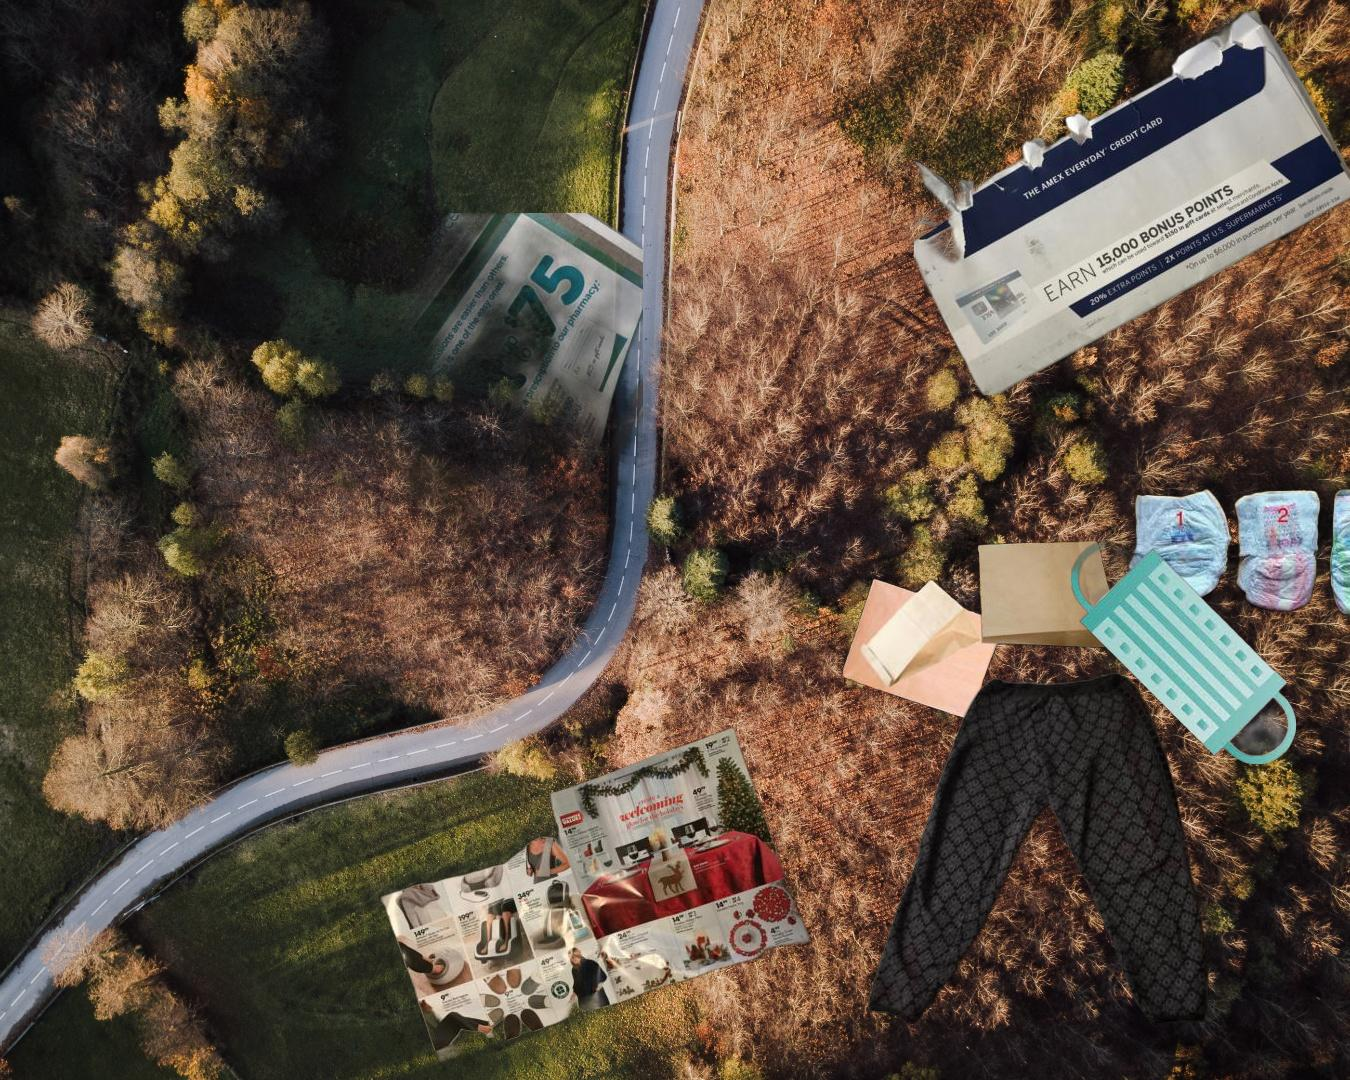clothes: (864, 668, 1212, 1029)
paper: (131, 213, 642, 597), (914, 11, 1350, 395), (376, 725, 818, 1067)
paper-bag: (838, 538, 1122, 723)
trash: (1071, 540, 1296, 764), (1124, 486, 1350, 620)
